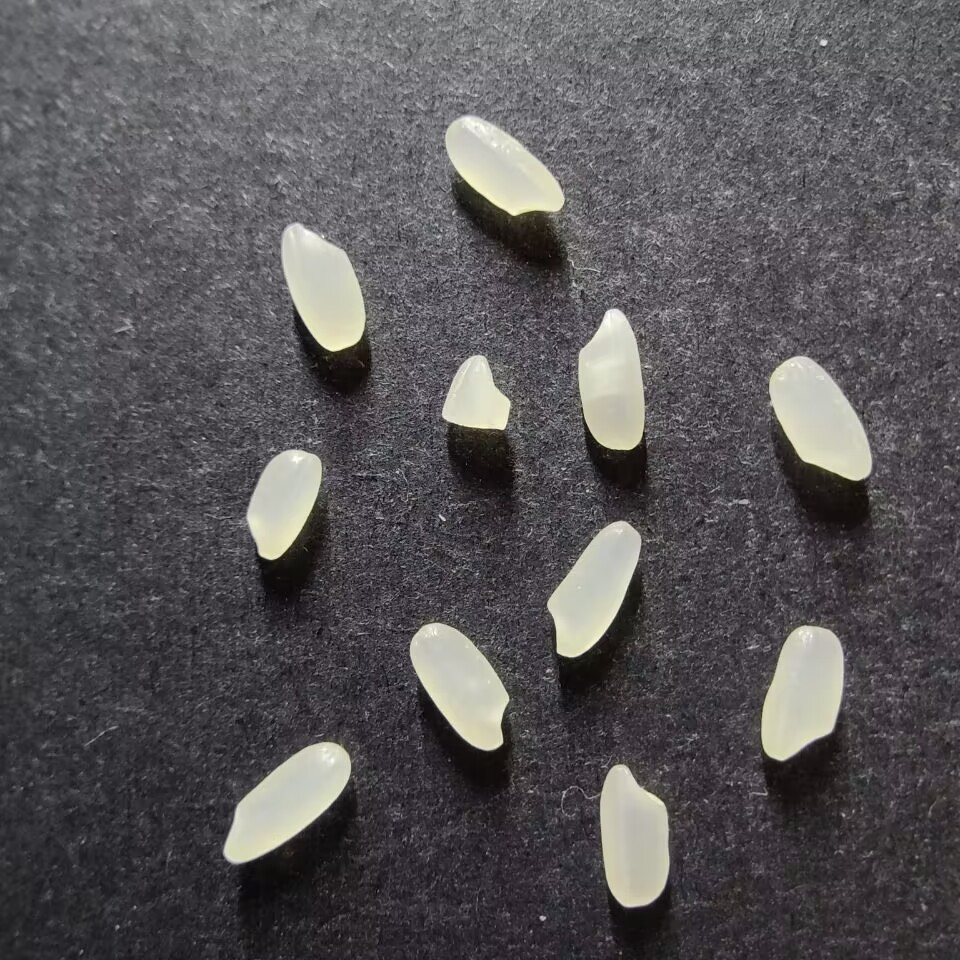broken: (441, 353, 511, 431)
rice: (221, 741, 351, 864), (545, 519, 642, 658), (768, 354, 873, 481), (408, 621, 510, 751), (443, 115, 565, 216), (760, 625, 844, 761), (280, 222, 365, 352), (598, 763, 670, 908), (576, 308, 645, 451), (245, 448, 322, 561)
